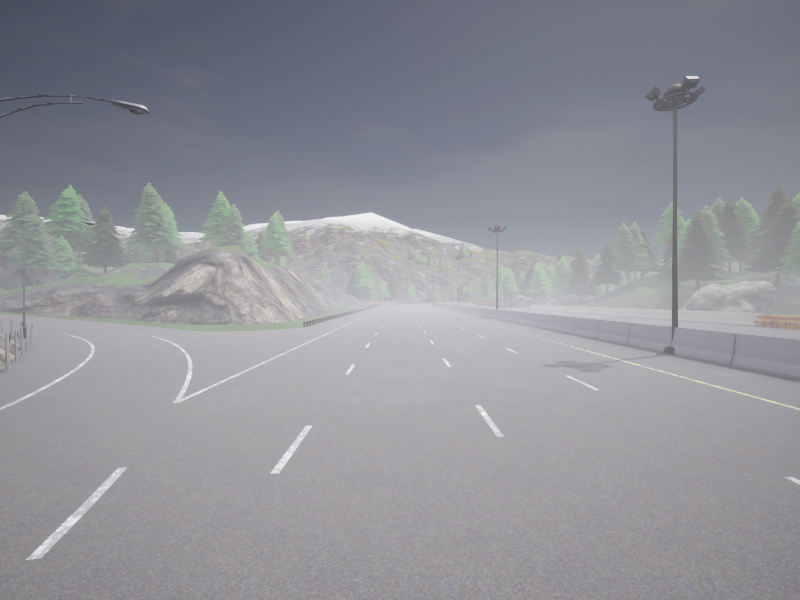vehicle: (473, 301, 476, 303)
